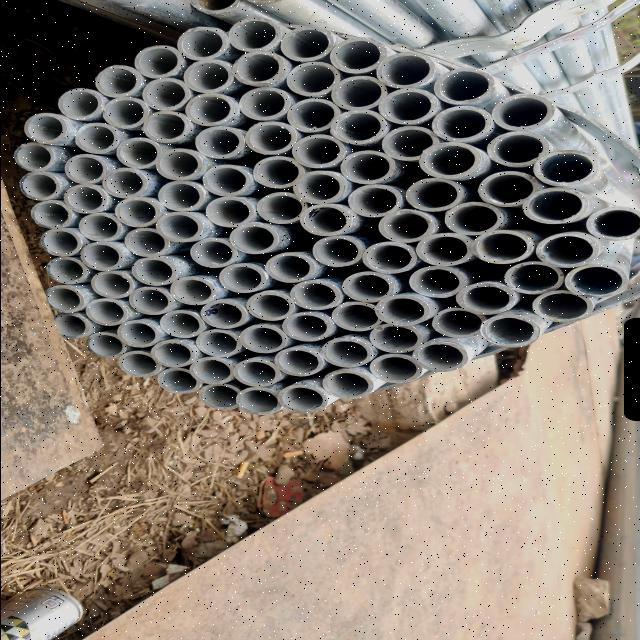pipe: (414, 140, 482, 182), (529, 148, 600, 188), (520, 186, 590, 226), (488, 93, 558, 133), (430, 103, 494, 145), (431, 66, 498, 106), (483, 130, 552, 168), (562, 262, 630, 300), (375, 86, 440, 125), (476, 169, 542, 207), (534, 233, 601, 270), (469, 229, 536, 265), (228, 48, 288, 88), (327, 107, 389, 145), (501, 259, 566, 295), (477, 312, 542, 348), (379, 124, 440, 162), (405, 263, 469, 299), (530, 290, 596, 324), (374, 52, 434, 89), (360, 239, 420, 276), (412, 232, 477, 266), (278, 24, 336, 62), (345, 182, 406, 218), (408, 339, 470, 374), (227, 15, 284, 53), (327, 74, 387, 110), (582, 205, 640, 242), (290, 132, 346, 170), (454, 280, 516, 314), (404, 178, 466, 212), (339, 150, 397, 186), (284, 60, 342, 96), (291, 168, 349, 204), (240, 119, 298, 155), (182, 91, 240, 127), (286, 97, 342, 134), (235, 85, 292, 121), (174, 24, 228, 62), (178, 58, 235, 94), (440, 202, 504, 234), (331, 36, 386, 73), (192, 124, 248, 160), (202, 194, 258, 230), (138, 109, 194, 145), (337, 270, 395, 304), (378, 210, 436, 244), (288, 278, 346, 312), (262, 250, 320, 284), (250, 154, 304, 190), (309, 234, 366, 268), (372, 293, 432, 325), (367, 352, 425, 385), (200, 164, 256, 198), (298, 202, 352, 237), (254, 190, 306, 226), (140, 76, 192, 112), (366, 322, 424, 354), (317, 336, 375, 368), (271, 383, 327, 416), (282, 310, 336, 344), (228, 222, 282, 256), (156, 178, 207, 214), (319, 368, 376, 400), (216, 262, 273, 294), (130, 44, 183, 78), (430, 307, 486, 339), (110, 196, 166, 228), (153, 148, 205, 182), (91, 64, 143, 98), (98, 96, 150, 130), (100, 166, 152, 200), (228, 386, 286, 416), (146, 337, 200, 369), (328, 300, 382, 332), (234, 324, 288, 356), (115, 136, 165, 170), (54, 86, 104, 120), (20, 111, 70, 145), (245, 289, 298, 321), (154, 211, 205, 244), (272, 346, 326, 377), (188, 236, 240, 268), (120, 226, 172, 258), (15, 169, 65, 202), (72, 122, 120, 156), (76, 240, 127, 272), (228, 357, 282, 387), (168, 275, 220, 306), (192, 328, 242, 360), (198, 298, 248, 330), (62, 152, 110, 185), (126, 284, 175, 316), (80, 297, 132, 327), (127, 256, 179, 286), (62, 183, 112, 214), (10, 140, 58, 172), (76, 211, 124, 243), (44, 254, 92, 286), (186, 354, 237, 384), (156, 310, 206, 340), (87, 270, 137, 300), (114, 350, 164, 379), (114, 319, 162, 349), (36, 228, 84, 258), (154, 367, 202, 396), (40, 284, 89, 312), (30, 198, 74, 228), (196, 384, 243, 412), (49, 312, 93, 339), (84, 332, 126, 358), (184, 0, 241, 14)
